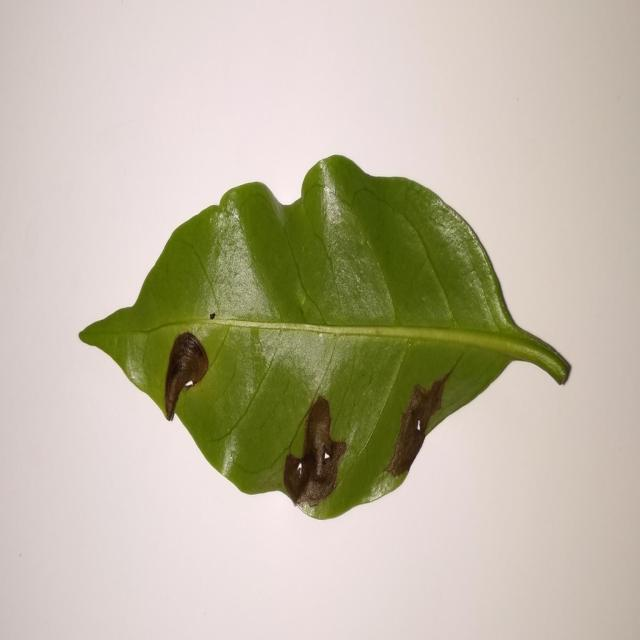Enfermedad-Antracnosis: (78, 156, 572, 523)
